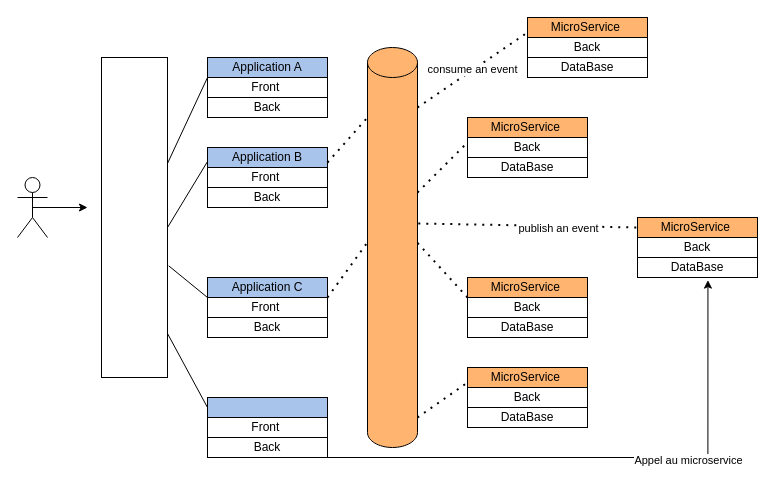
Some shapes in this 775 by 484 pixel diagram are drawn without their labels. Each missing label, with the box of its shape:
Application D: (206, 396, 328, 418)
Events Bus: (366, 46, 418, 448)
Portail: (100, 56, 168, 378)
User: (16, 176, 48, 238)
